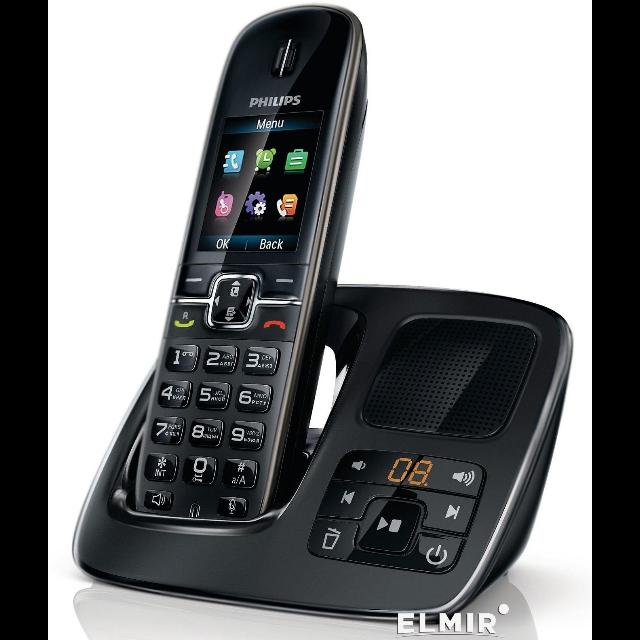Telephone-Set: (125, 2, 547, 618)
